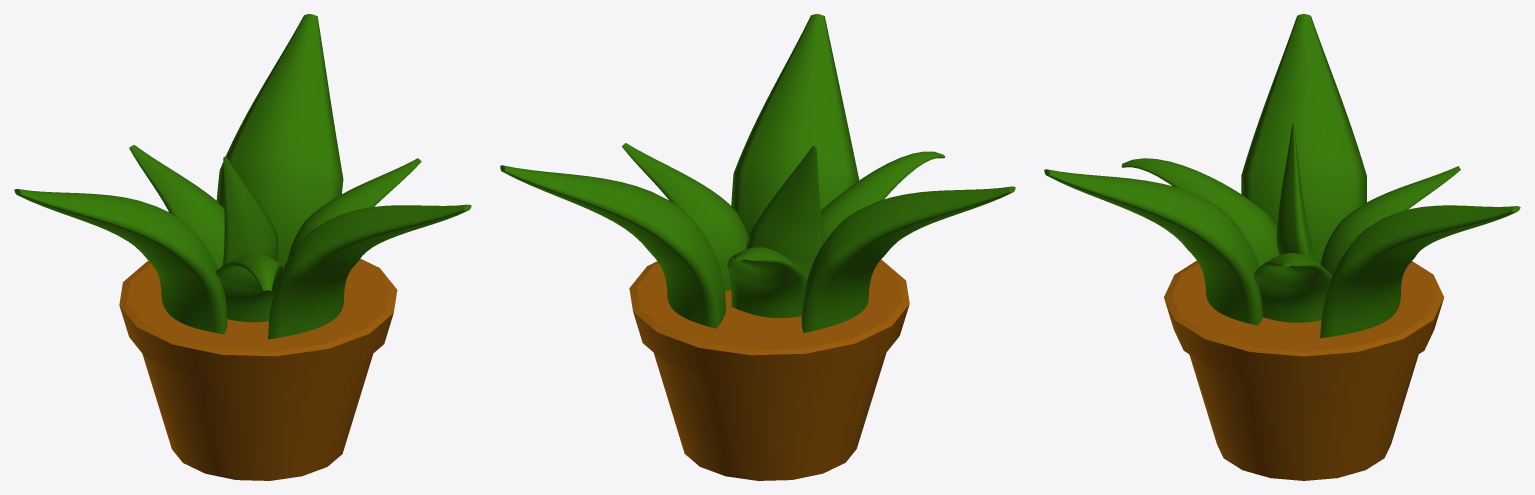
Rendered from plant.fbx.
3 views of the same model, side by side, from view 1: azimuth 30°, elevation 25°; view 2: azimuth 150°, elevation 25°; view 3: azimuth 270°, elevation 25° (orthographic).
Parts seen in each view (by area): view 1: Cylinder, BezierCurve.003, BezierCurve.001, BezierCurve.002, BezierCurve.004, BezierCurve.007, BezierCurve.005, BezierCurve.006; view 2: Cylinder, BezierCurve.002, BezierCurve.003, BezierCurve.001, BezierCurve.007, BezierCurve.006, BezierCurve.004, BezierCurve.005; view 3: Cylinder, BezierCurve.001, BezierCurve.002, BezierCurve.003, BezierCurve.006, BezierCurve.005, BezierCurve.004, BezierCurve.007.
Part boxes in pixels (bbox=[...]): Cylinder: bbox=[119, 258, 397, 480]; BezierCurve.003: bbox=[216, 14, 343, 266]; BezierCurve.001: bbox=[14, 189, 227, 334]; BezierCurve.002: bbox=[268, 204, 471, 339]; BezierCurve.004: bbox=[129, 145, 224, 268]; BezierCurve.007: bbox=[222, 156, 277, 265]; BezierCurve.005: bbox=[215, 253, 285, 322]; BezierCurve.006: bbox=[287, 158, 421, 260]; Cylinder: bbox=[629, 259, 909, 480]; BezierCurve.002: bbox=[731, 14, 859, 236]; BezierCurve.003: bbox=[500, 165, 725, 328]; BezierCurve.001: bbox=[801, 186, 1015, 332]; BezierCurve.007: bbox=[745, 145, 823, 281]; BezierCurve.006: bbox=[622, 143, 748, 291]; BezierCurve.004: bbox=[727, 247, 806, 317]; BezierCurve.005: bbox=[820, 151, 945, 243]; Cylinder: bbox=[1164, 260, 1444, 480]; BezierCurve.001: bbox=[1241, 14, 1366, 264]; BezierCurve.002: bbox=[1044, 169, 1262, 325]; BezierCurve.003: bbox=[1320, 205, 1520, 338]; BezierCurve.006: bbox=[1253, 253, 1332, 322]; BezierCurve.005: bbox=[1121, 158, 1279, 266]; BezierCurve.004: bbox=[1320, 166, 1460, 275]; BezierCurve.007: bbox=[1276, 124, 1316, 261].
Bounding box in the file's own units: 352 × 261 × 359.
